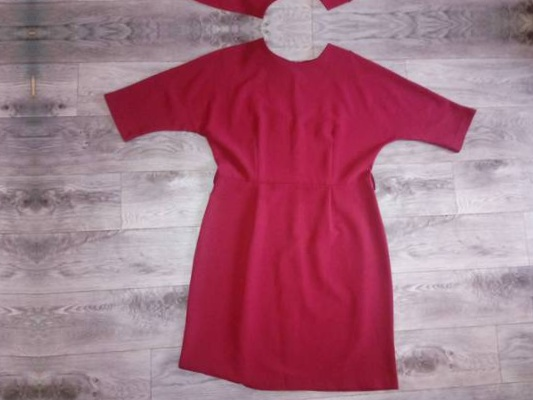Dress: (92, 32, 485, 400), (84, 0, 477, 23)
